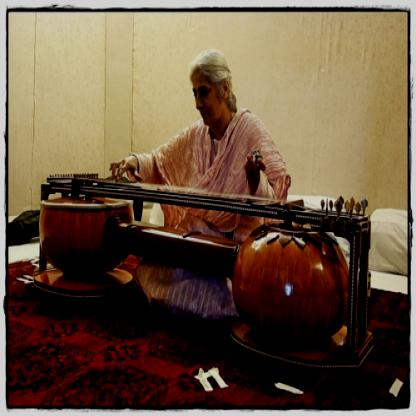Veena: (46, 173, 369, 244)
